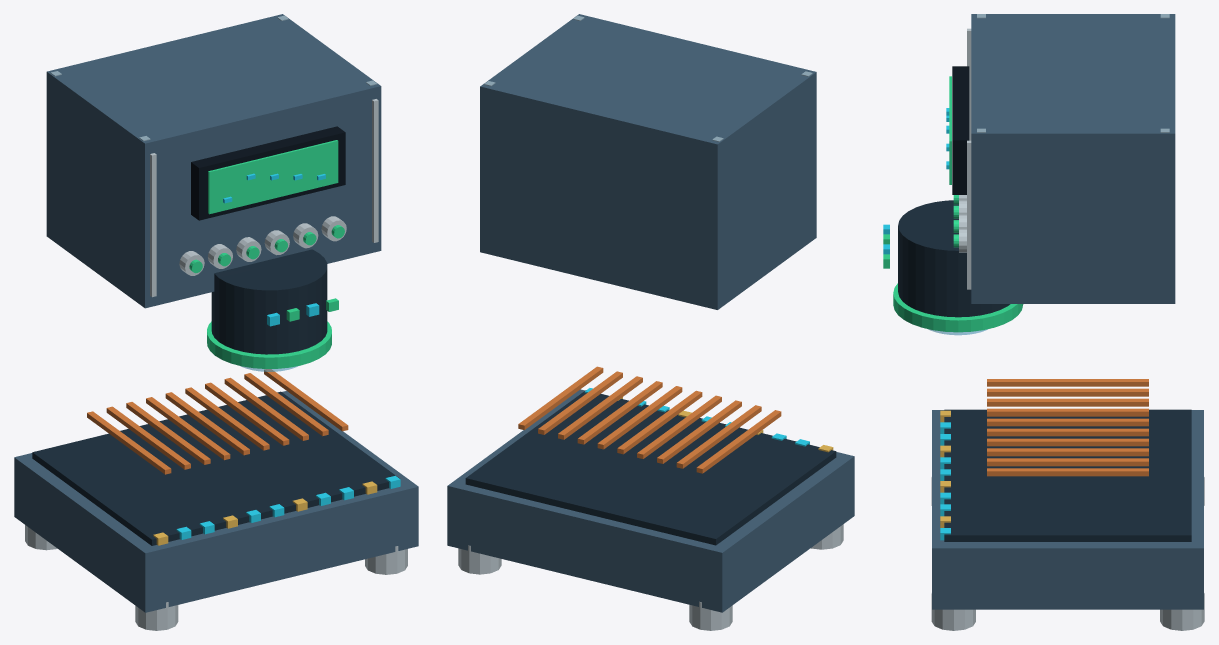
Rendered from 34_L79_AtomicScaleSurfaceFlatnessProfiler.fbx.
3 renders of one model, left to right at view 1: azimuth 30°, elevation 25°; view 2: azimuth 150°, elevation 25°; view 3: azimuth 270°, elevation 25°, orthographic. The views are drawn at different scales.
Visible parts, largest first — view 1: AtomicScaleSurfaceFlatnessProfiler; view 2: AtomicScaleSurfaceFlatnessProfiler; view 3: AtomicScaleSurfaceFlatnessProfiler.
Part boxes in pixels (x1,y1,x2,y2): AtomicScaleSurfaceFlatnessProfiler: (14, 14, 418, 630); AtomicScaleSurfaceFlatnessProfiler: (447, 14, 854, 630); AtomicScaleSurfaceFlatnessProfiler: (883, 14, 1204, 630).
Bounding box in the file's own units: 125 × 207 × 123.
